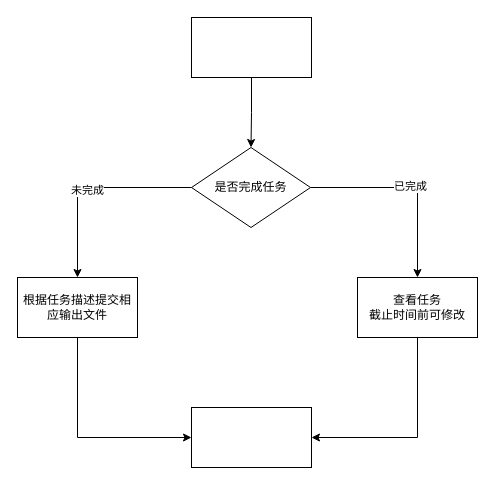
Some shapes in this 495 by 485 pixel diagram are drawn without their labels. The centre of each missing label's shape, as x and y in pixels:
"确认提交" goes at point (251, 437).
"进入已加入项目工作台" goes at point (251, 47).
